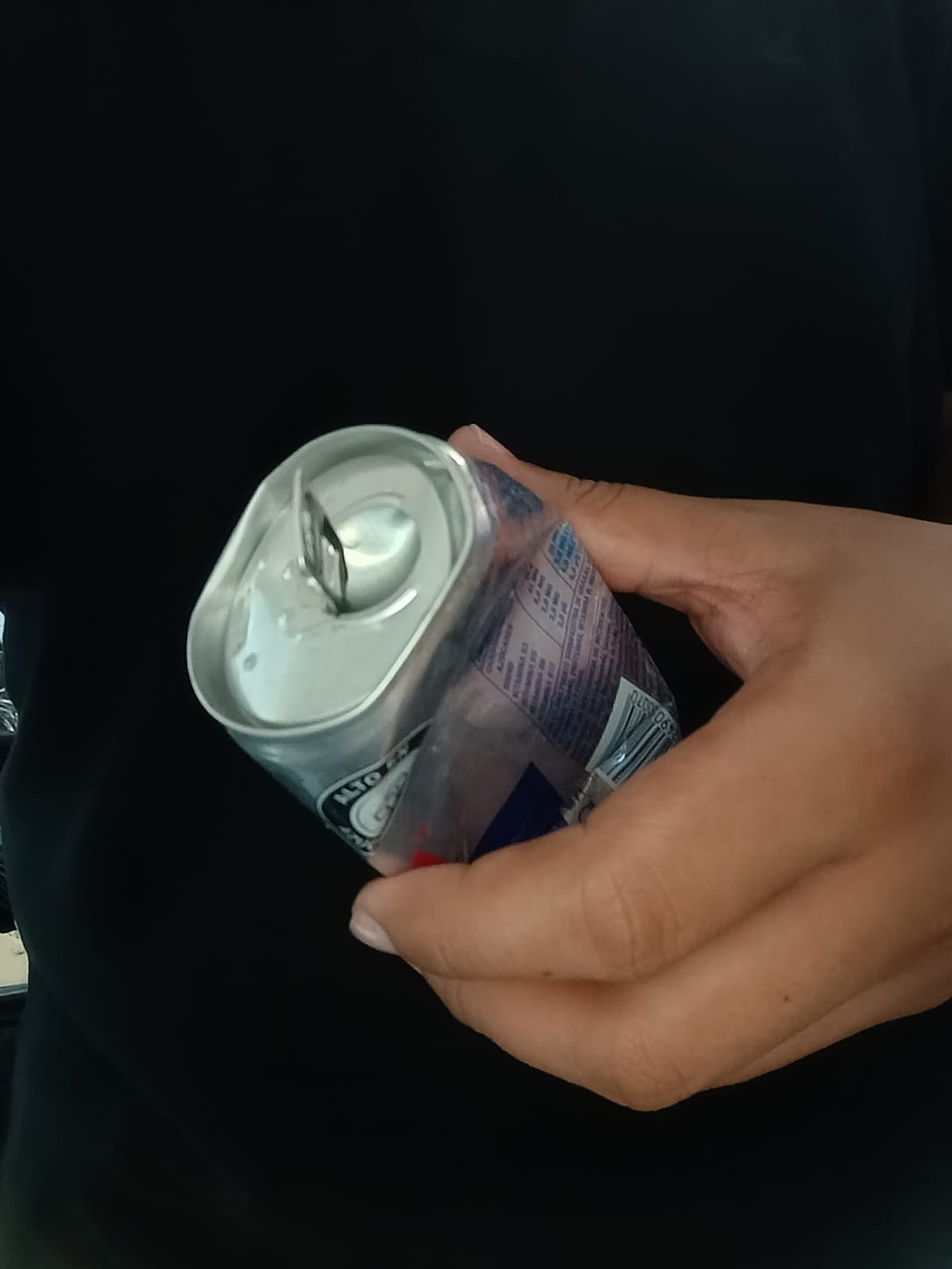Metal: (182, 423, 689, 890)
